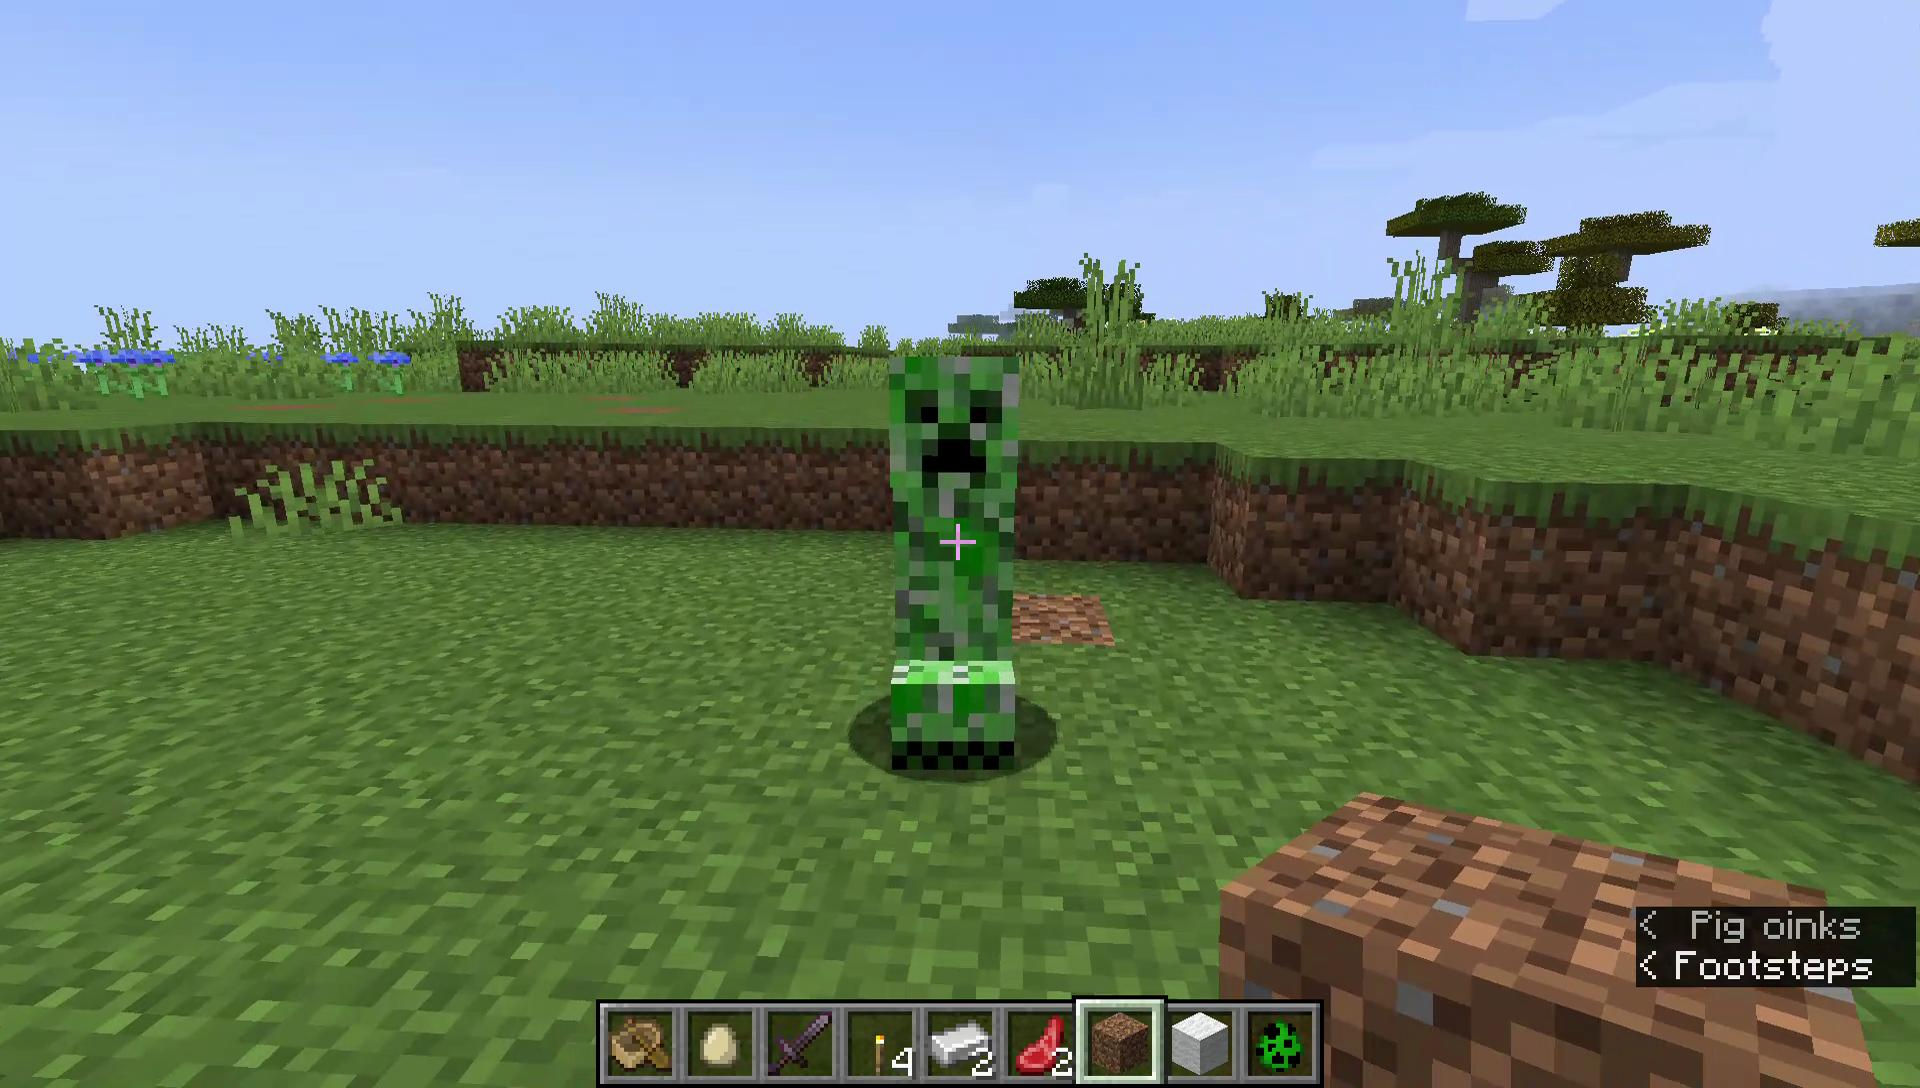creeper: (877, 342, 1033, 783)
